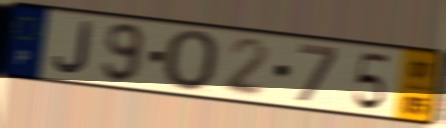2: (223, 35, 271, 101)
5: (351, 49, 392, 111)
7: (294, 41, 343, 106)
9: (101, 22, 147, 86)
J: (51, 20, 95, 77)
O: (162, 28, 223, 95)
